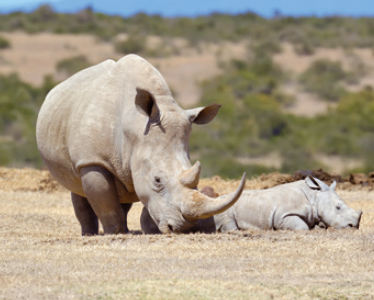Rhinoceros: (28, 44, 252, 237)
